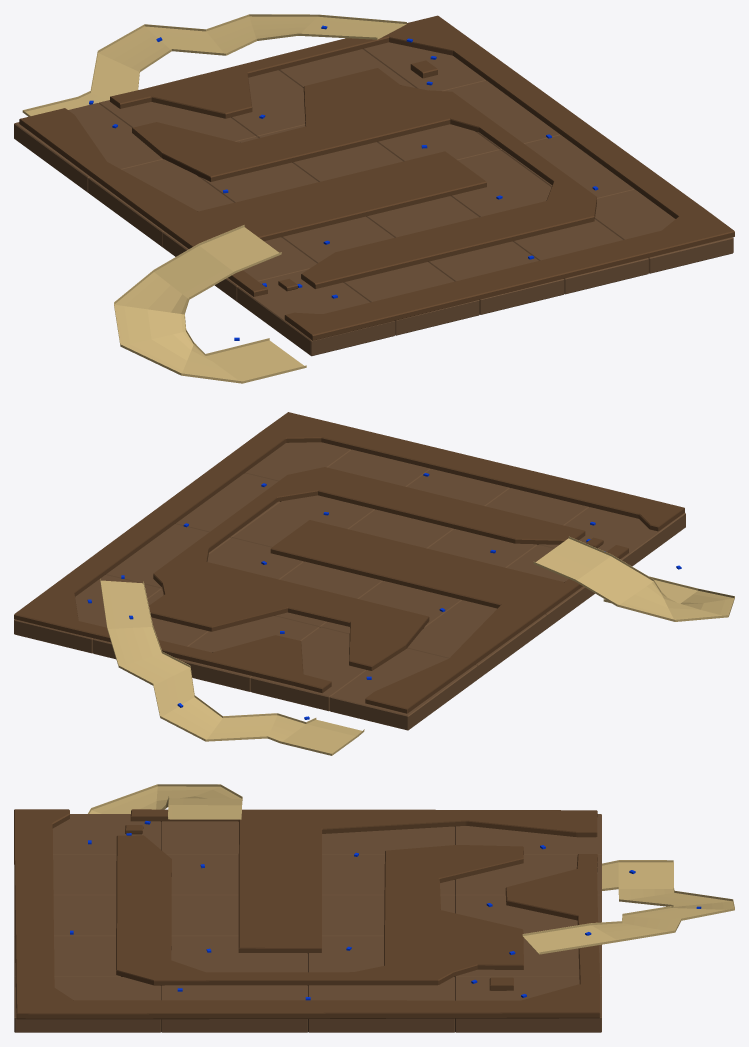
Rendered from Track 1 Prototype0.1.fbx.
3 renders of one model, top to bottom at view 1: azimuth 30°, elevation 25°; view 2: azimuth 150°, elevation 25°; view 3: azimuth 270°, elevation 25°, orthographic. The views are drawn at different scales.
Parts seen in each view (by area): view 1: Pembatas, Arena, Floating Road1, Plane; view 2: Pembatas, Arena, Plane, Floating Road1; view 3: Pembatas, Arena, Plane, Floating Road1.
Part boxes in pixels (left/top/right/bottom): Pembatas: left=19, top=15, right=734, bottom=340; Arena: left=14, top=42, right=733, bottom=356; Floating Road1: left=114, top=225, right=306, bottom=383; Plane: left=22, top=14, right=406, bottom=116; Pembatas: left=14, top=412, right=684, bottom=713; Arena: left=14, top=442, right=685, bottom=730; Plane: left=100, top=579, right=364, bottom=755; Floating Road1: left=533, top=536, right=734, bottom=621; Pembatas: left=14, top=809, right=600, bottom=1019; Arena: left=14, top=814, right=601, bottom=1032; Plane: left=522, top=860, right=734, bottom=954; Floating Road1: left=88, top=784, right=242, bottom=819.
Size of the model in its own units: 23876 by 3751 by 27780.
